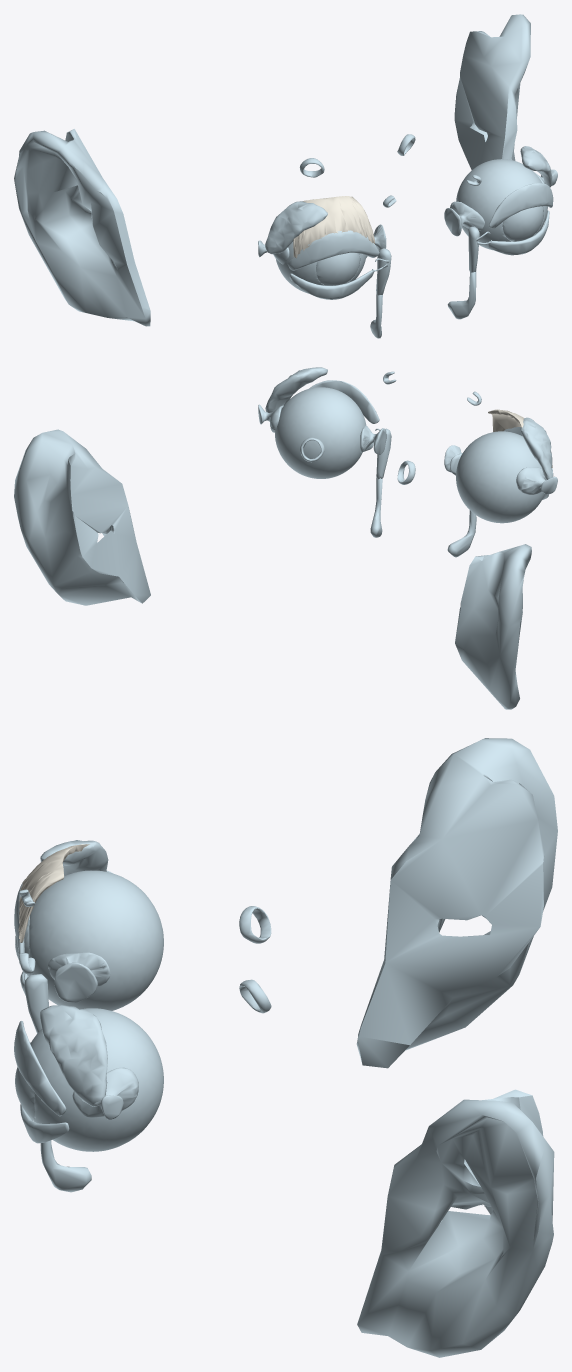
Rendered from sens-tete.lo.glb.
3 views of the same model, one above another, from view 1: azimuth 30°, elevation 25°; view 2: azimuth 150°, elevation 25°; view 3: azimuth 270°, elevation 25° (orthographic). The views are drawn at different scales.
Visible parts, largest first — view 1: FJ2811, FJ1317, FJ1343, FJ1350, FJ1375, FJ1324, FJ1340, FJ1289, FJ1379, FJ1292, FJ1368, FJ1328 (+4 smaller); view 2: FJ2811, FJ1317, FJ1368, FJ1350, FJ1299, FJ1334, FJ1324, FJ1343, FJ1292, FJ1353, FJ1302; view 3: FJ2811, FJ1368, FJ1317, FJ1299, FJ1335, FJ1284, FJ1324, FJ1343, FJ1350, FJ1302, FJ1360, FJ1342 (+1 smaller).
Boxes of the visible parts, <box> form: FJ2811: <box>14,14,530,326</box>; FJ1317: <box>456,159,547,250</box>; FJ1343: <box>293,196,374,258</box>; FJ1350: <box>265,201,327,254</box>; FJ1375: <box>288,230,379,270</box>; FJ1324: <box>488,183,553,228</box>; FJ1340: <box>316,252,359,285</box>; FJ1289: <box>502,206,543,241</box>; FJ1379: <box>289,270,374,299</box>; FJ1292: <box>444,201,484,236</box>; FJ1368: <box>276,241,366,293</box>; FJ1328: <box>488,210,549,255</box>; FJ2811: <box>14,429,531,709</box>; FJ1317: <box>275,387,366,478</box>; FJ1368: <box>456,431,544,523</box>; FJ1350: <box>520,417,552,480</box>; FJ1299: <box>265,367,327,412</box>; FJ1334: <box>516,467,557,494</box>; FJ1324: <box>309,380,379,423</box>; FJ1343: <box>488,409,552,467</box>; FJ1292: <box>360,425,386,454</box>; FJ1353: <box>447,510,476,557</box>; FJ1302: <box>370,477,382,537</box>; FJ2811: <box>356,738,557,1357</box>; FJ1368: <box>29,870,163,1010</box>; FJ1317: <box>30,1008,163,1151</box>; FJ1299: <box>40,1005,107,1106</box>; FJ1335: <box>48,952,110,1002</box>; FJ1284: <box>72,1067,138,1119</box>; FJ1324: <box>14,1021,66,1116</box>; FJ1343: <box>18,844,89,942</box>; FJ1350: <box>40,840,108,875</box>; FJ1302: <box>40,1140,91,1192</box>; FJ1360: <box>24,974,48,1033</box>; FJ1342: <box>239,906,271,943</box>.
Bounding box in the file's own units: 0.1674 × 0.0569 × 0.0994.
